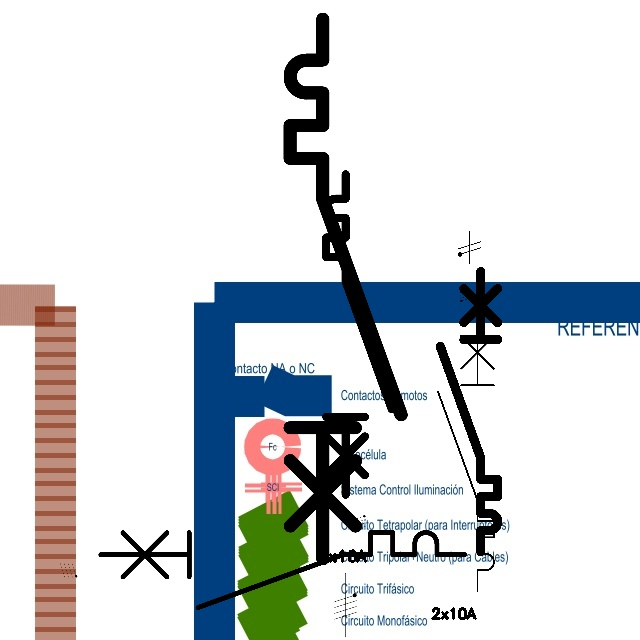interruptor_termomagnetico: (276, 5, 415, 573), (91, 523, 474, 616), (318, 166, 400, 503), (433, 264, 505, 558), (431, 312, 501, 598)
